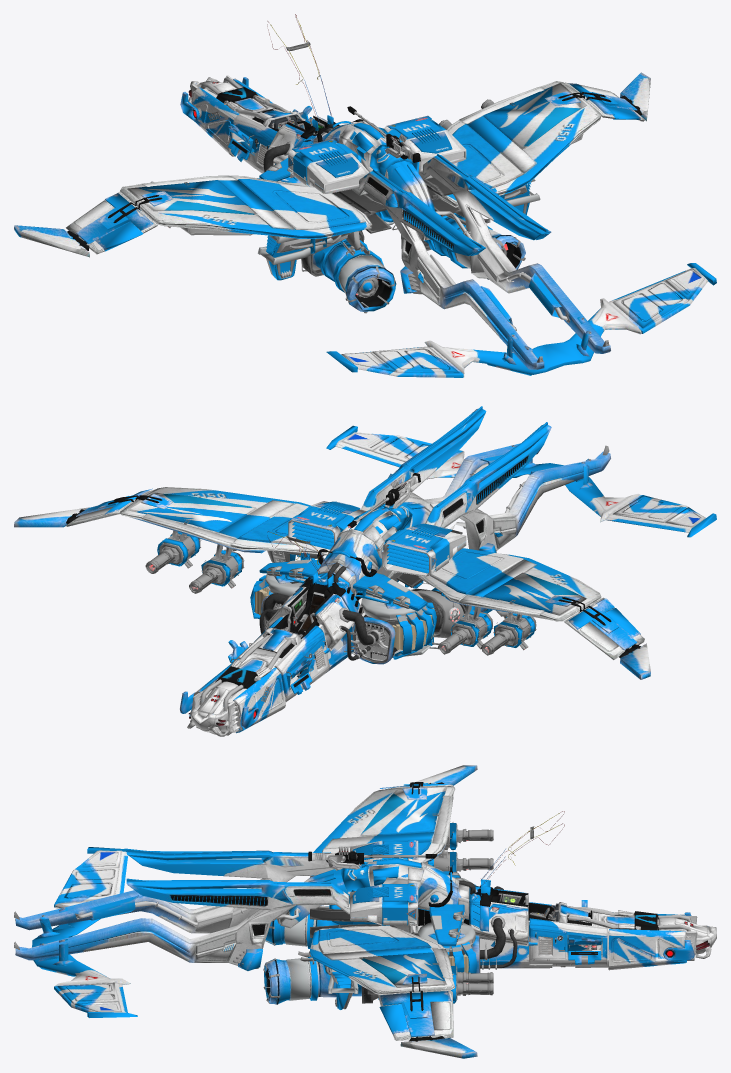
Rendered from volition.glb.
The picture shows the model from 3 angles, top to bottom: view 1: azimuth 30°, elevation 25°; view 2: azimuth 150°, elevation 25°; view 3: azimuth 270°, elevation 25°; orthographic projection. The views are drawn at different scales.
Parts seen in each view (by area): view 1: body; view 2: body; view 3: body.
Boxes of the visible parts, x1=… form: body: x1=14, y1=14, x2=716, y2=377; body: x1=14, y1=406, x2=716, y2=736; body: x1=14, y1=765, x2=716, y2=1058.
Bounding box in the file's own units: 178 × 45.55 × 183.
Materials: 8 (7 with a texture image).
